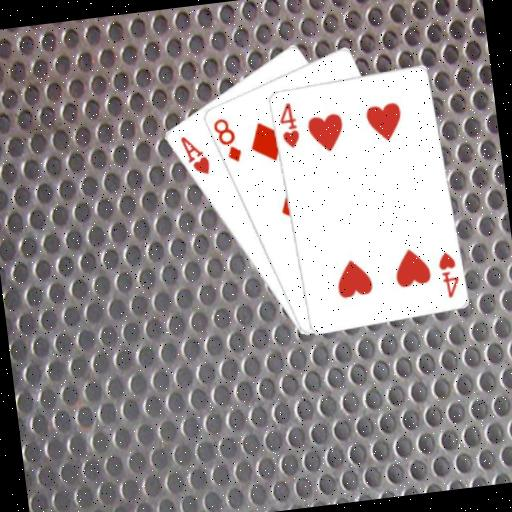4H: (434, 248, 462, 301), (273, 99, 302, 150)
8D: (209, 113, 244, 167)
AH: (176, 131, 213, 180)
